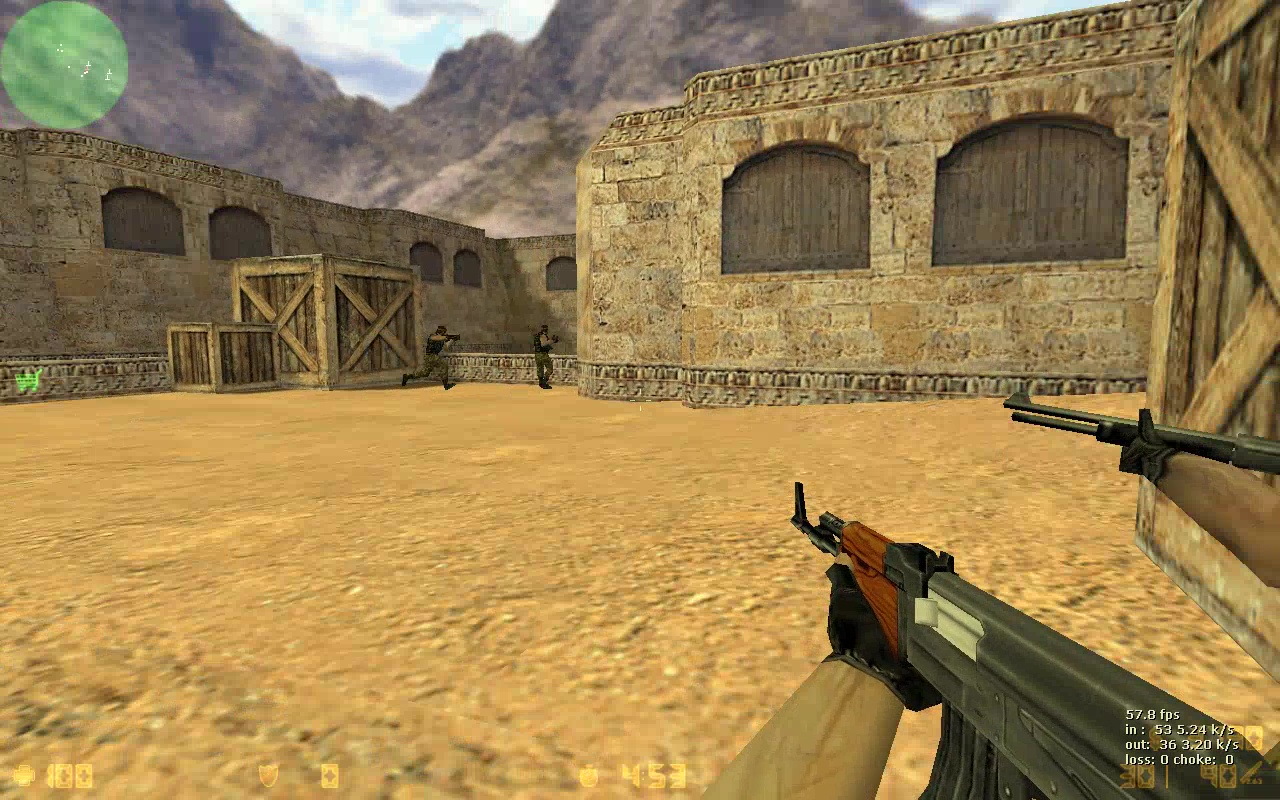terr1: (401, 326, 460, 390), (534, 325, 559, 391)
